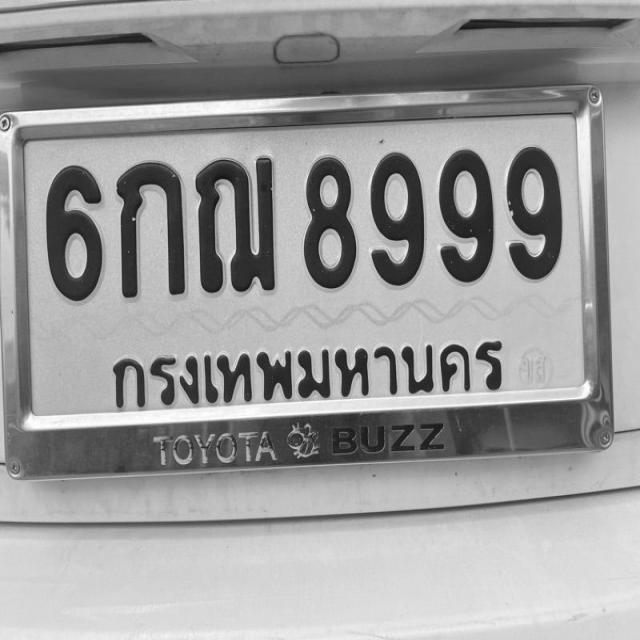plate: (3, 114, 604, 418)
